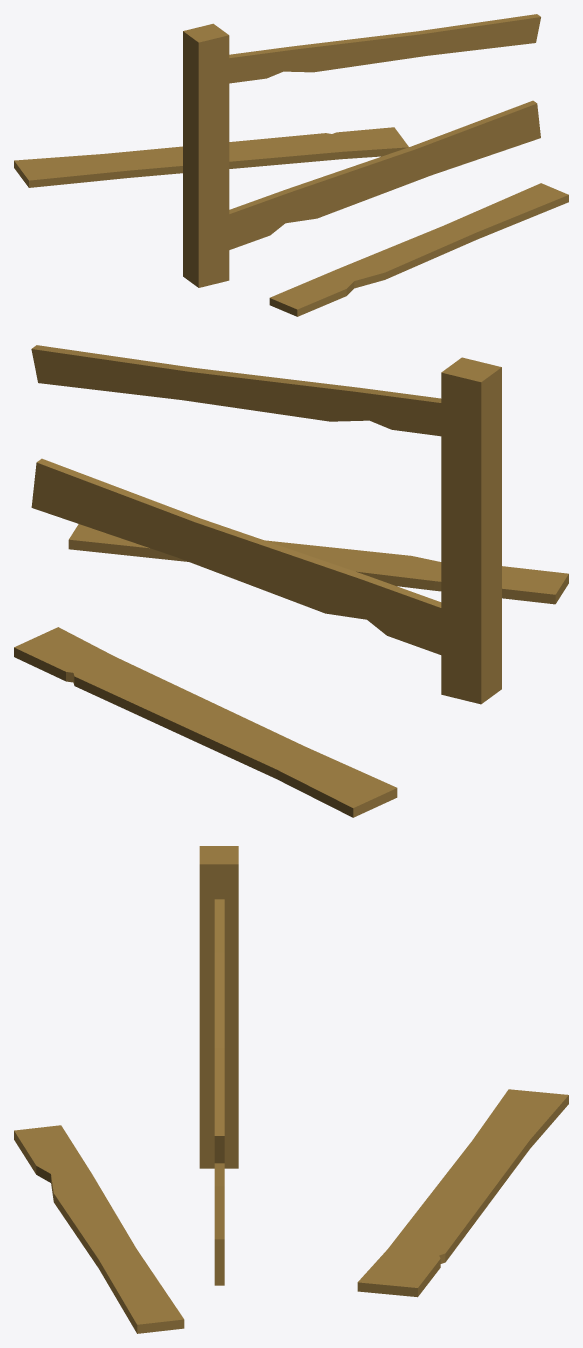
The model's file is SM_WFence_5.fbx.
3 renders of one model, top to bottom at view 1: azimuth 30°, elevation 25°; view 2: azimuth 150°, elevation 25°; view 3: azimuth 270°, elevation 25°, orthographic. The views are drawn at different scales.
Parts seen in each view (by area): view 1: Box051; view 2: Box051; view 3: Box051.
Part boxes in pixels (<box>): Box051: <box>14,14,568,316</box>; Box051: <box>14,345,568,817</box>; Box051: <box>14,846,568,1333</box>.
Size of the model in its own units: 178 by 106 by 175.
